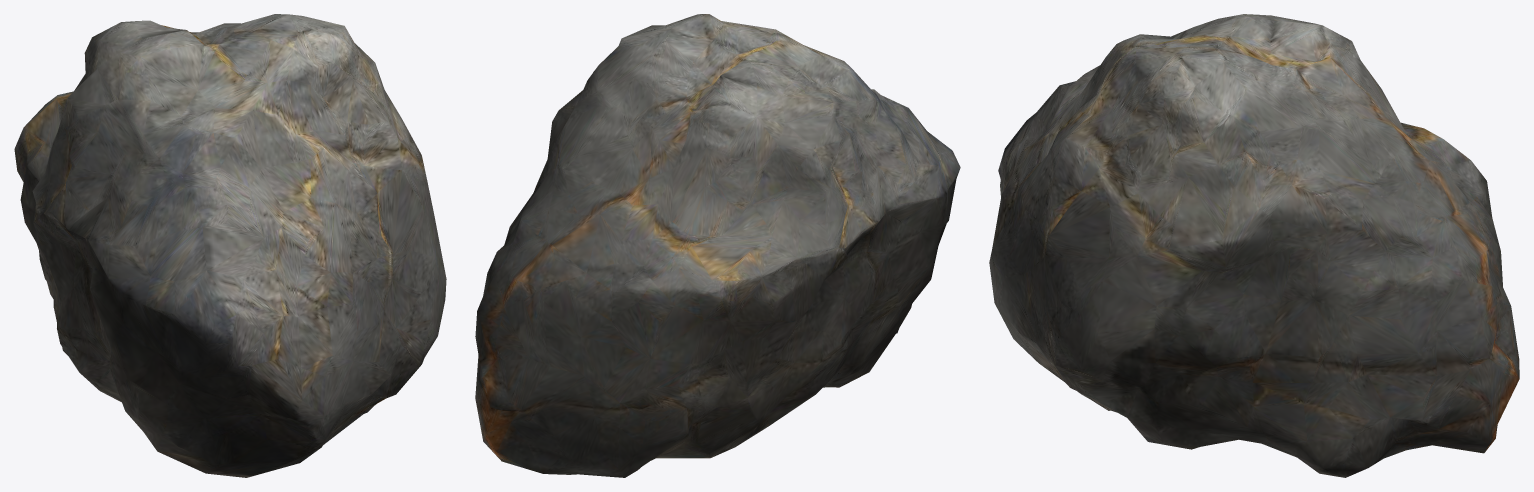
The model's file is fels.glb.
3 views of the same model, side by side, from view 1: azimuth 30°, elevation 25°; view 2: azimuth 150°, elevation 25°; view 3: azimuth 270°, elevation 25° (orthographic). The views are drawn at different scales.
Size of the model in its own units: 1.47 by 1.58 by 1.99.
1 material, 1 textured.
